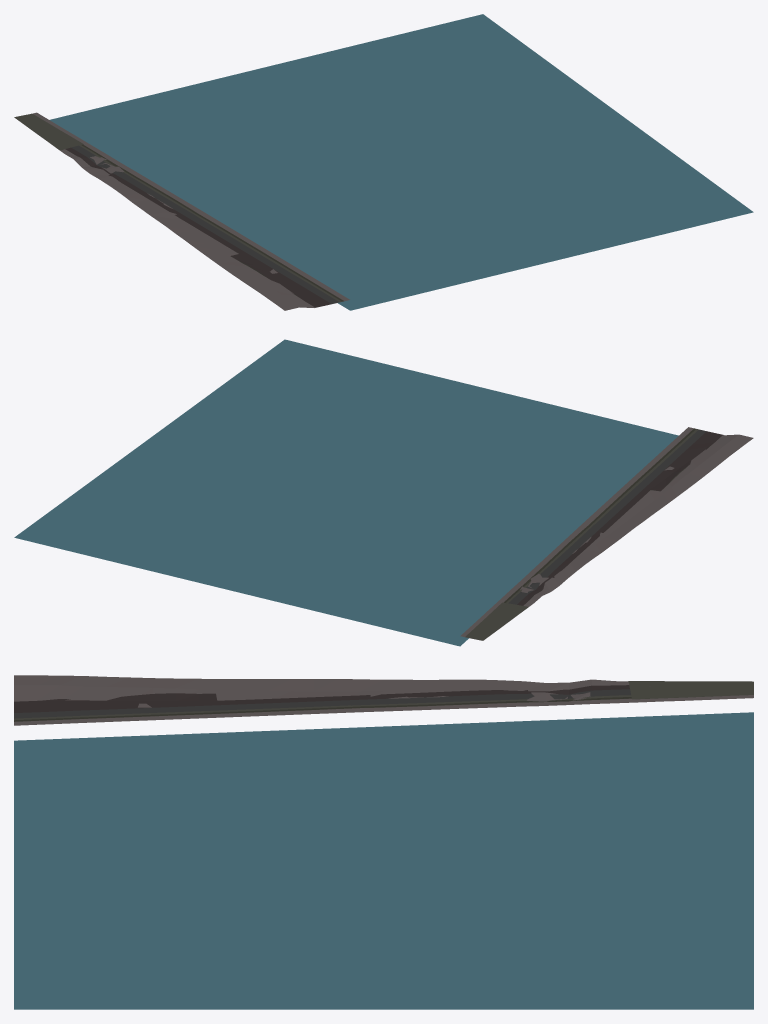
3 views of the same model, one above another, from view 1: azimuth 30°, elevation 25°; view 2: azimuth 150°, elevation 25°; view 3: azimuth 270°, elevation 25° (orthographic). The views are drawn at different scales.
Visible parts, largest first — view 1: c_m13_p08; view 2: c_m13_p08; view 3: c_m13_p08.
Part boxes in pixels (<box>): c_m13_p08: <box>14,14,753,310</box>; c_m13_p08: <box>14,339,753,646</box>; c_m13_p08: <box>14,675,753,1009</box>.
Size of the model in its own units: 128 by 4.14 by 128.
